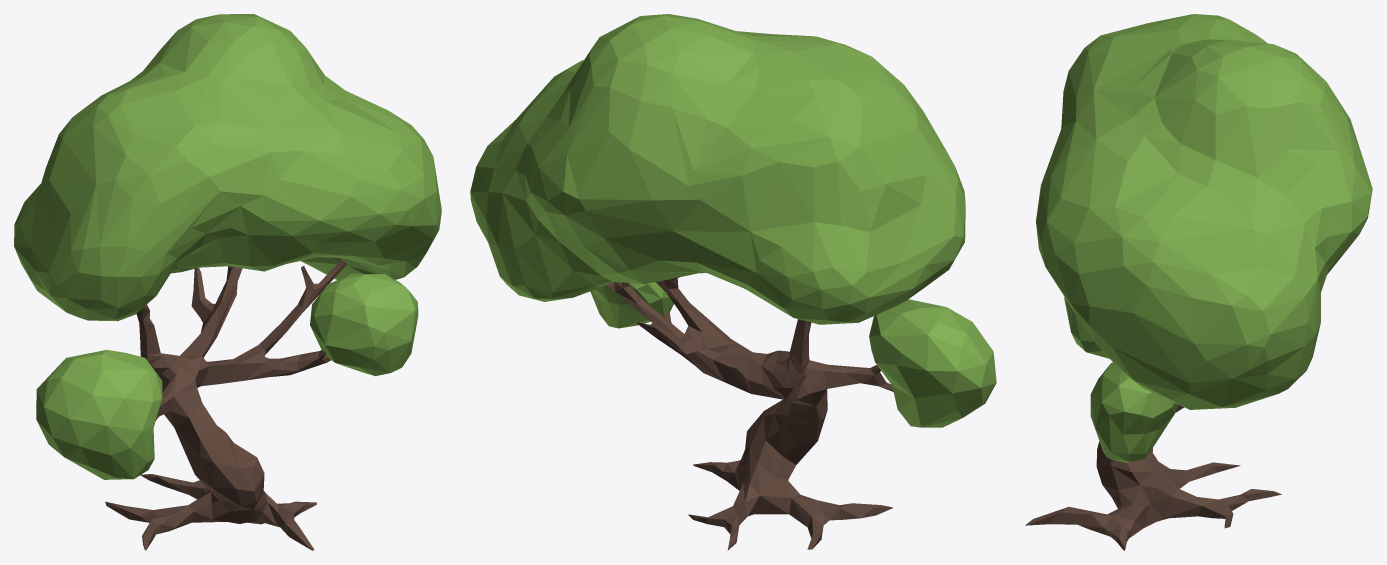
The model's file is tree-01.glb.
3 renders of one model, left to right at view 1: azimuth 30°, elevation 25°; view 2: azimuth 150°, elevation 25°; view 3: azimuth 270°, elevation 25°, orthographic. The views are drawn at different scales.
Visible parts, largest first — view 1: Tree5_2; view 2: Tree5_2; view 3: Tree5_2.
Boxes of the visible parts, left/top/right/bottom form: Tree5_2: left=14, top=14, right=441, bottom=550; Tree5_2: left=470, top=14, right=996, bottom=550; Tree5_2: left=1025, top=14, right=1372, bottom=550.
Bounding box in the file's own units: 18.41 × 19.43 × 12.37.
